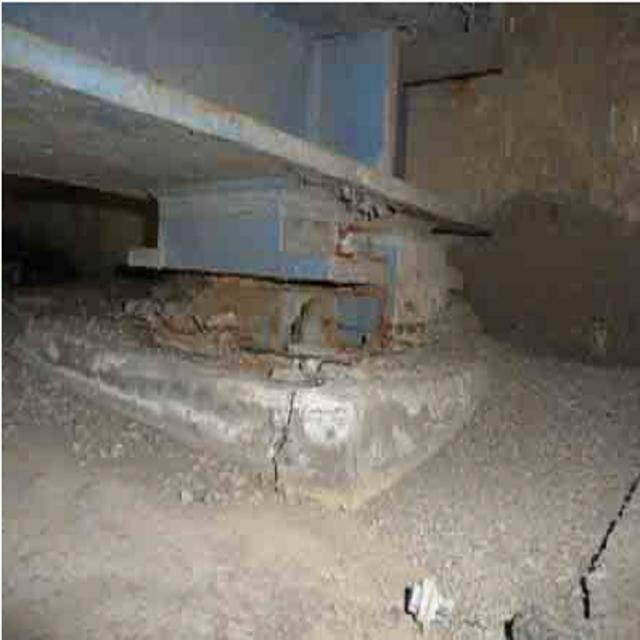corrosion: (136, 250, 414, 370)
